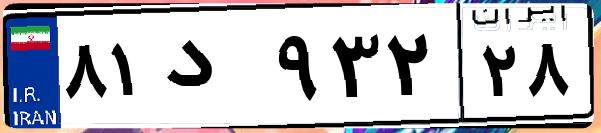1: (110, 28, 158, 98)
2: (385, 28, 445, 110), (475, 38, 525, 113)
3: (330, 28, 385, 110)
8: (57, 26, 110, 100), (525, 38, 570, 115)
9: (270, 28, 330, 110)
د: (158, 20, 270, 120)
